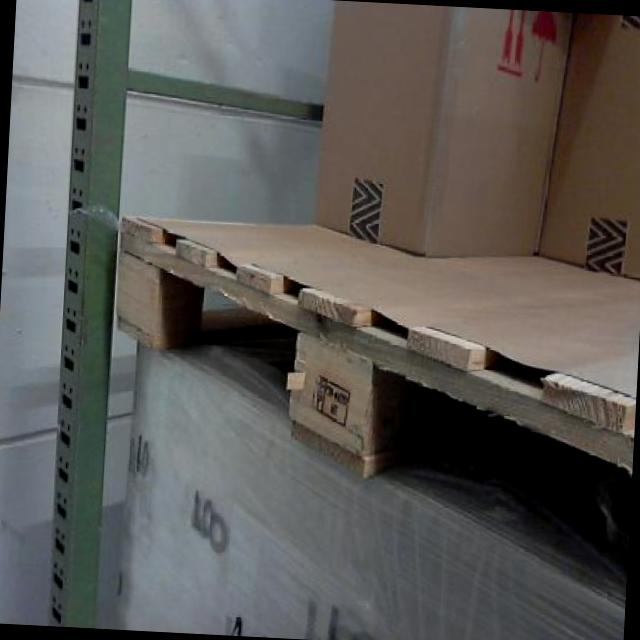pallet: (101, 202, 640, 547)
